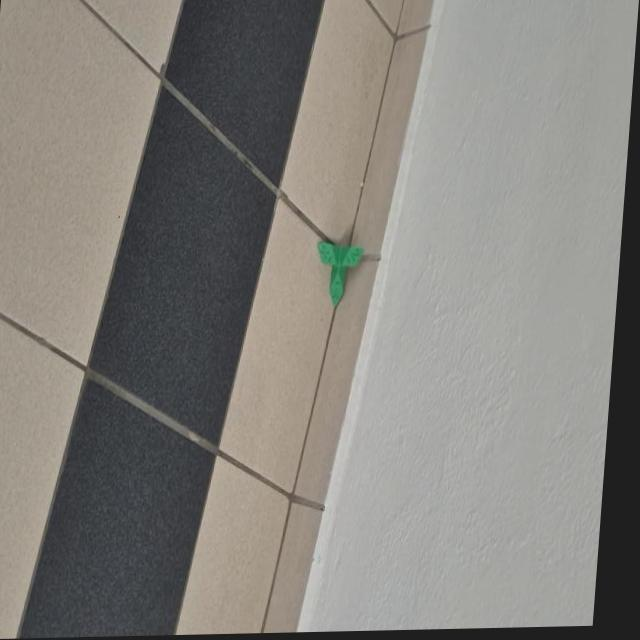eje: (311, 239, 365, 309)
